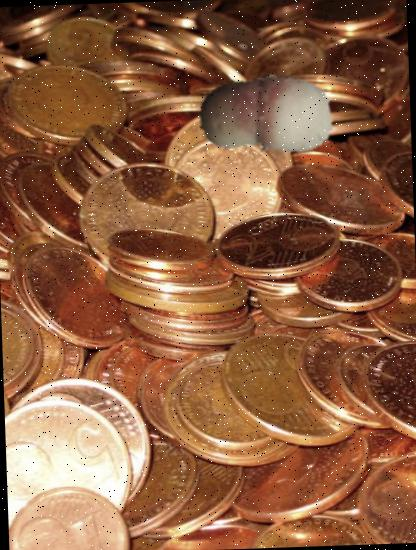Peach: (197, 48, 335, 186)
